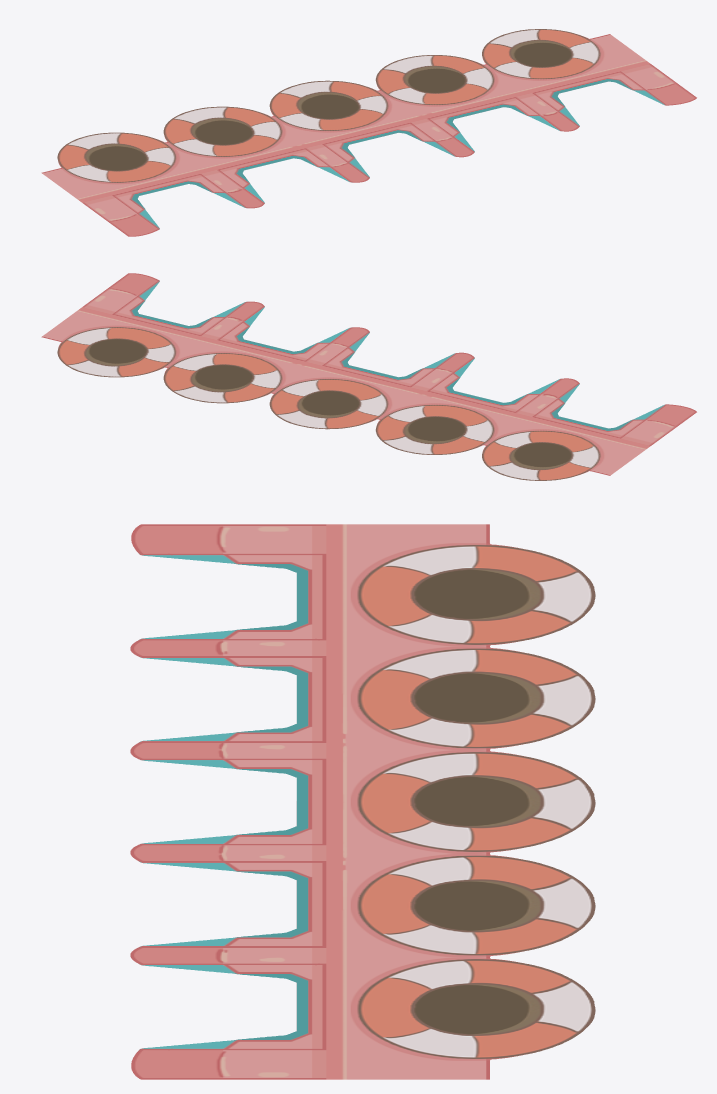
The model's file is Mesh_Activity_Pachinko_02_Shelf_01.fbx.
The picture shows the model from 3 angles, top to bottom: view 1: azimuth 30°, elevation 25°; view 2: azimuth 150°, elevation 25°; view 3: azimuth 270°, elevation 25°; orthographic projection. The views are drawn at different scales.
Parts seen in each view (by area): view 1: Mesh_Activity_Pachinko_02_Shelf_01; view 2: Mesh_Activity_Pachinko_02_Shelf_01; view 3: Mesh_Activity_Pachinko_02_Shelf_01.
Part boxes in pixels (left/top/right/bottom): Mesh_Activity_Pachinko_02_Shelf_01: left=41, top=29, right=696, bottom=236; Mesh_Activity_Pachinko_02_Shelf_01: left=41, top=273, right=696, bottom=480; Mesh_Activity_Pachinko_02_Shelf_01: left=130, top=524, right=595, bottom=1079.
Size of the model in its own units: 674 by 0 by 247.
Materials: 1 (1 with a texture image).
